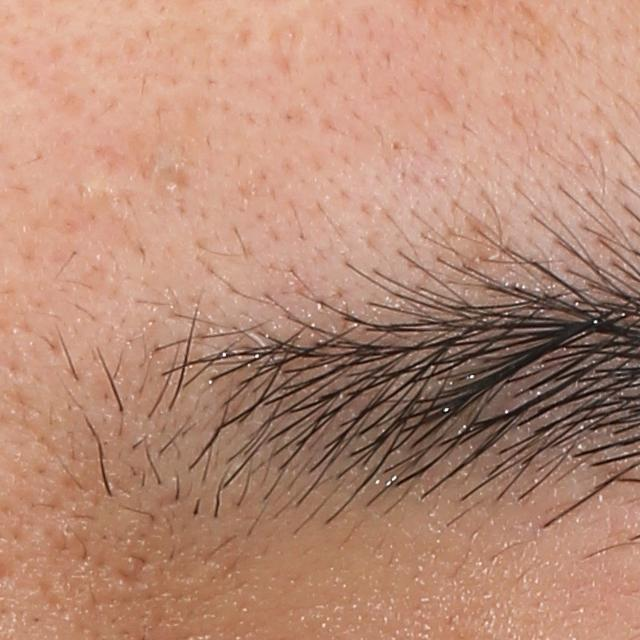atrophic_scar: (265, 19, 300, 71), (112, 550, 144, 582)
comedo: (158, 170, 187, 200)
